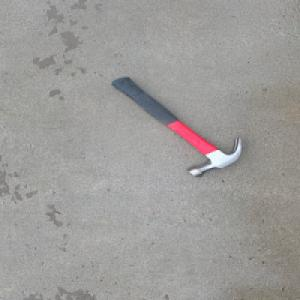Hammer: (108, 75, 244, 178)
